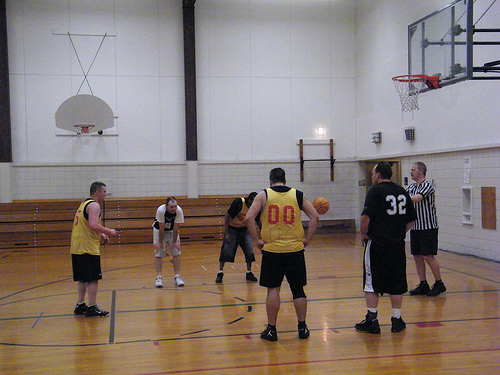basketball: (314, 197, 330, 215)
